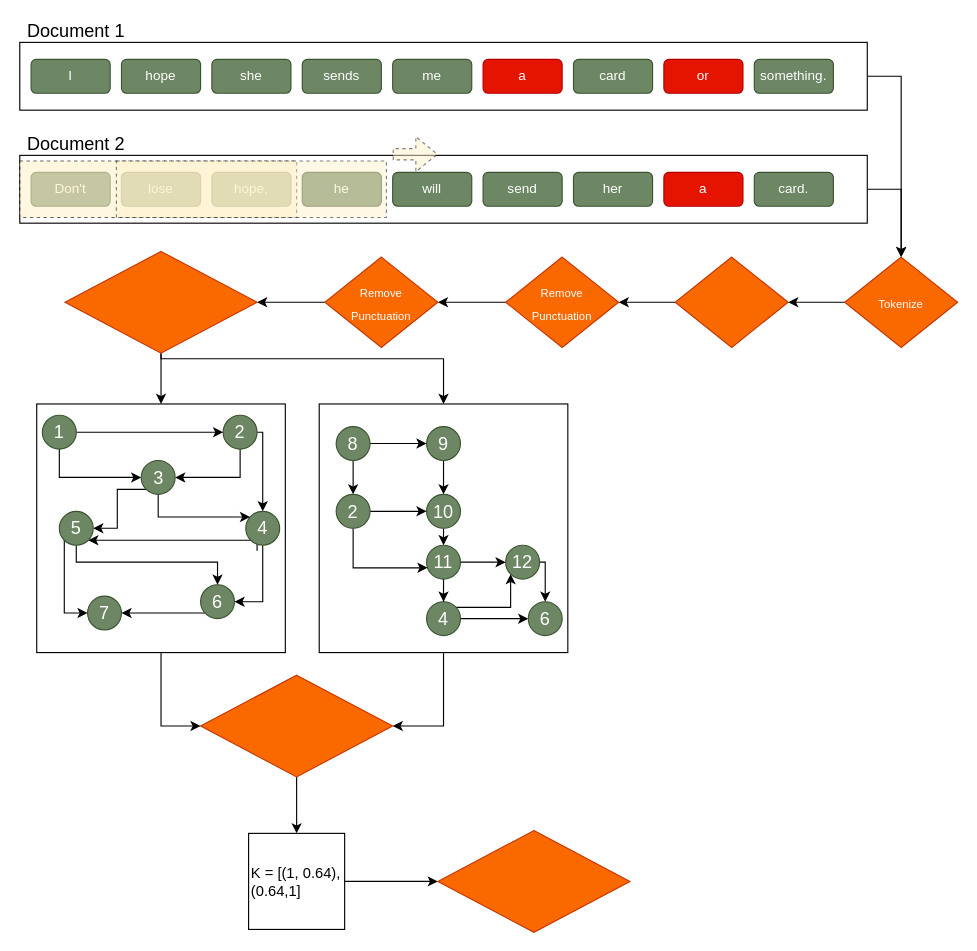
The diagram is 977 pixels wide and 951 high, and some of its shapes have lost their labels. The centre of each missing label's shape, as x and y in pixels:
Compute Graph Kernel: point 296,725
Construct Skip-Gram Graph: point 160,301
Hierarchical Clustering: point 533,880
Remove Stop Words: point 731,301
